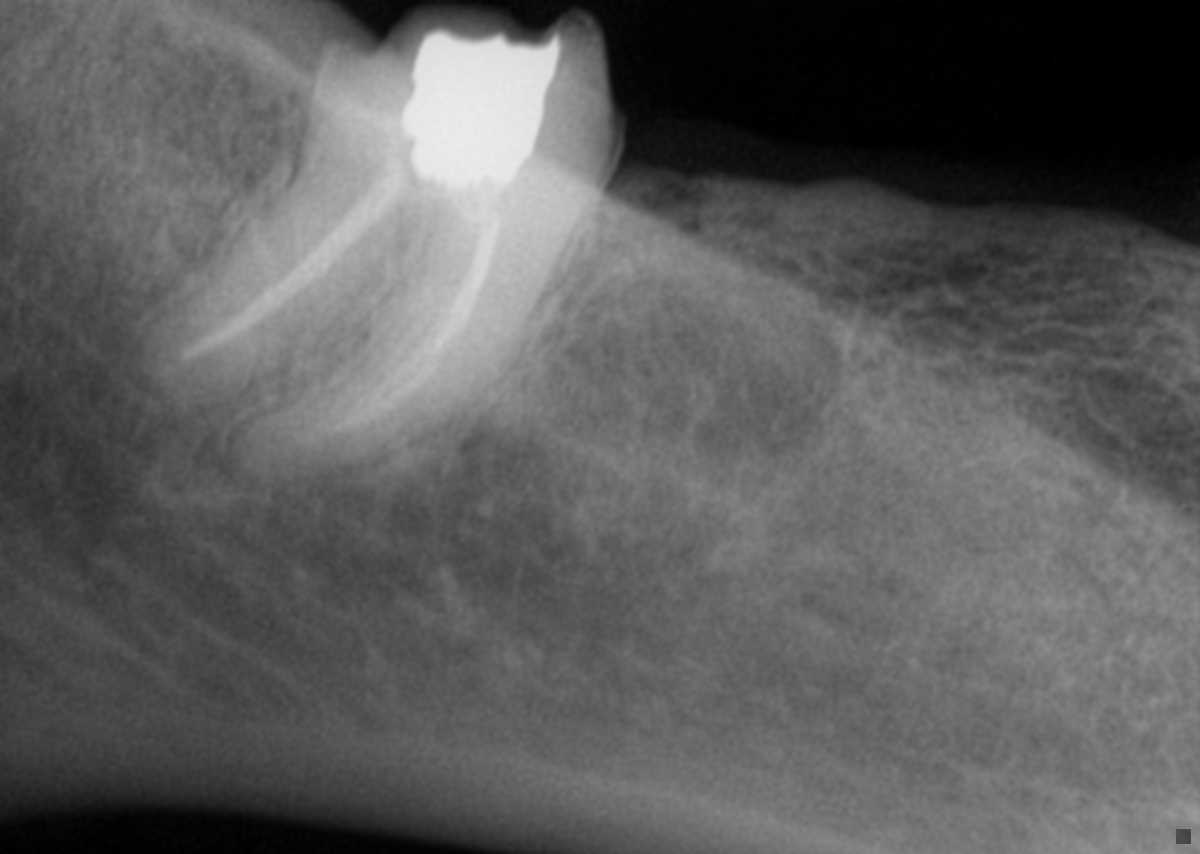Distal Root: (123, 131, 438, 406)
Mesial Root: (225, 198, 583, 479)
Root Canal Filling: (179, 168, 406, 362), (323, 208, 499, 438)
